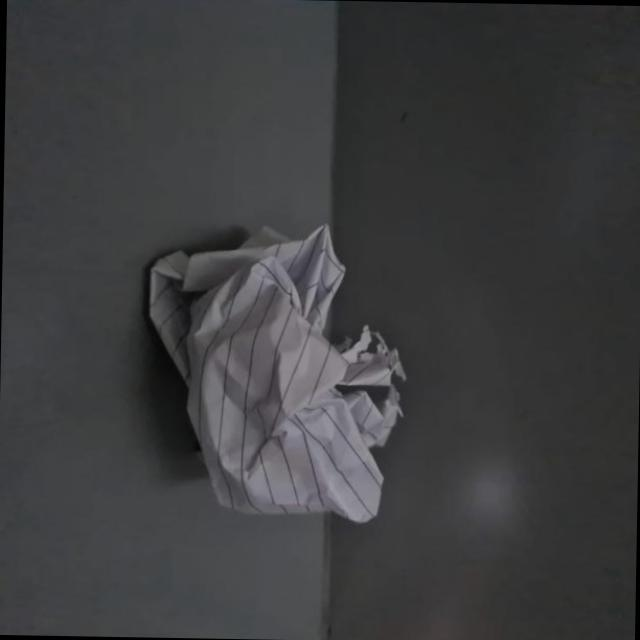cardboard paper: (150, 227, 402, 523)
